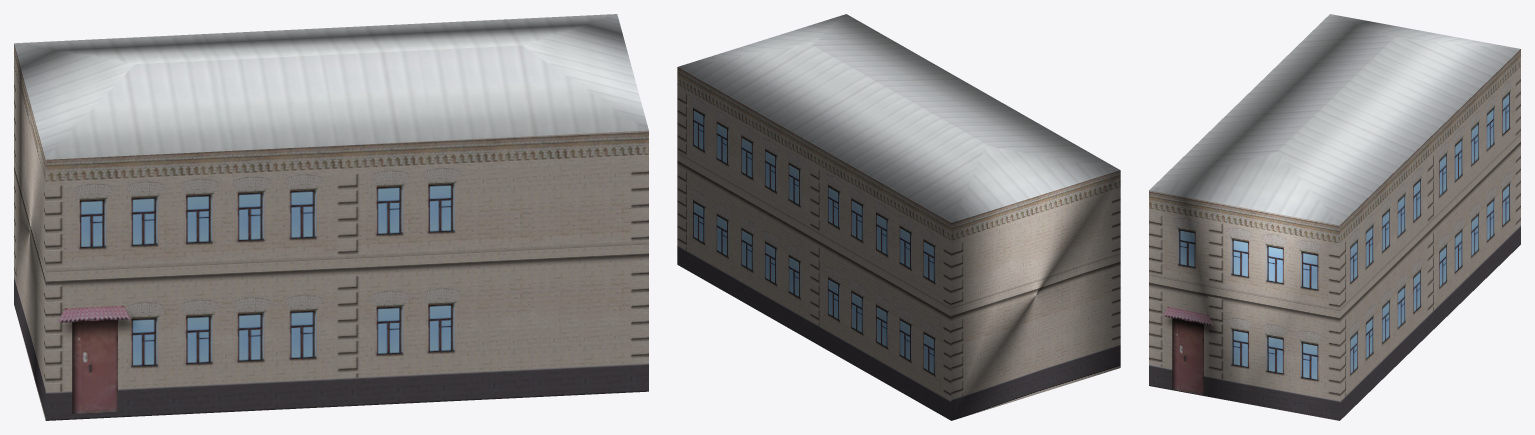
Rendered from lp-building29.fbx.
3 views of the same model, side by side, from view 1: azimuth 30°, elevation 25°; view 2: azimuth 150°, elevation 25°; view 3: azimuth 270°, elevation 25° (orthographic). The views are drawn at different scales.
Visible parts, largest first — view 1: 01houses.019; view 2: 01houses.019; view 3: 01houses.019.
Part boxes in pixels (bbox=[...]): 01houses.019: bbox=[14, 14, 648, 420]; 01houses.019: bbox=[677, 14, 1120, 420]; 01houses.019: bbox=[1149, 14, 1520, 420].
Size of the model in its own units: 1082 by 525 by 805.
1 material, 1 textured.
